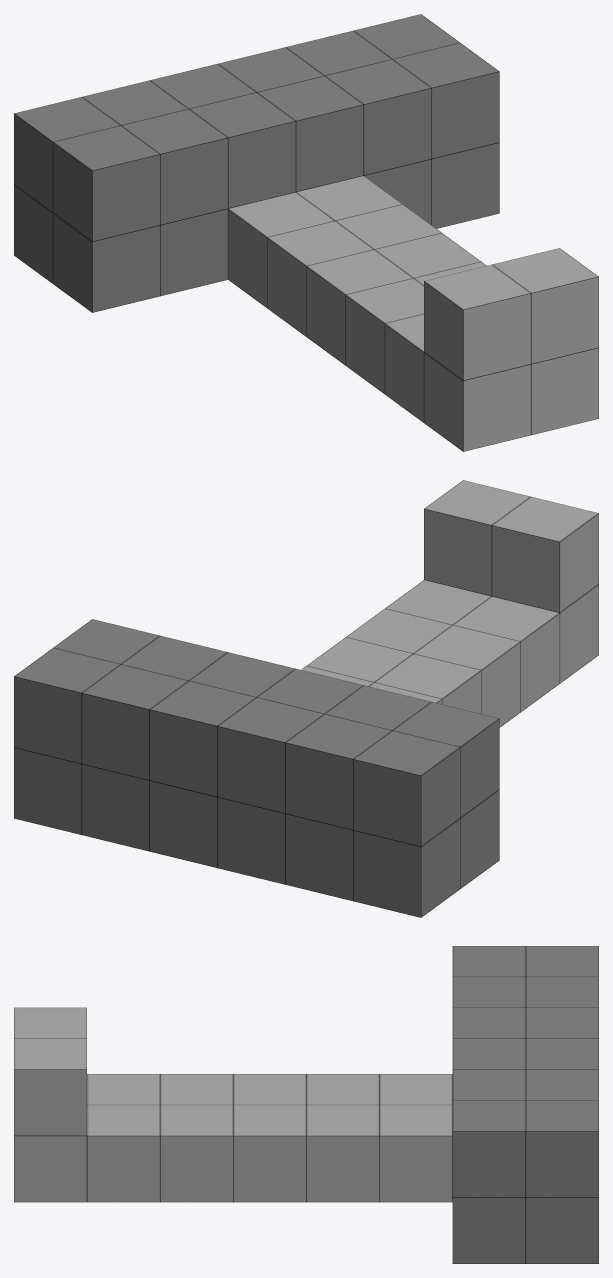
Rendered from product_hanger.glb.
The picture shows the model from 3 angles, top to bottom: view 1: azimuth 30°, elevation 25°; view 2: azimuth 150°, elevation 25°; view 3: azimuth 270°, elevation 25°; orthographic projection. The views are drawn at different scales.
Visible parts, largest first — view 1: m1; view 2: m1; view 3: m1.
Boxes of the visible parts, box(x1,y1,x2,y2) form: m1: box(14, 14, 598, 451); m1: box(14, 480, 598, 917); m1: box(14, 946, 598, 1263).
Size of the model in its own units: 6 by 2 by 8.
1 material, 1 textured.
